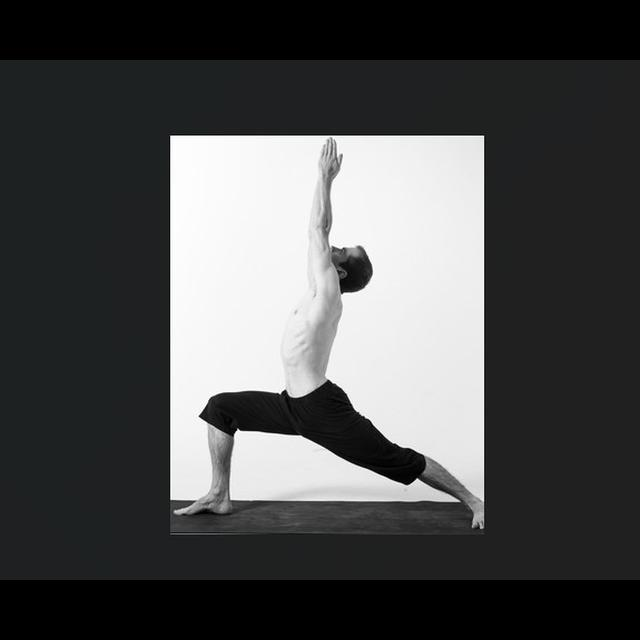Warrior_I: (177, 139, 484, 526)
